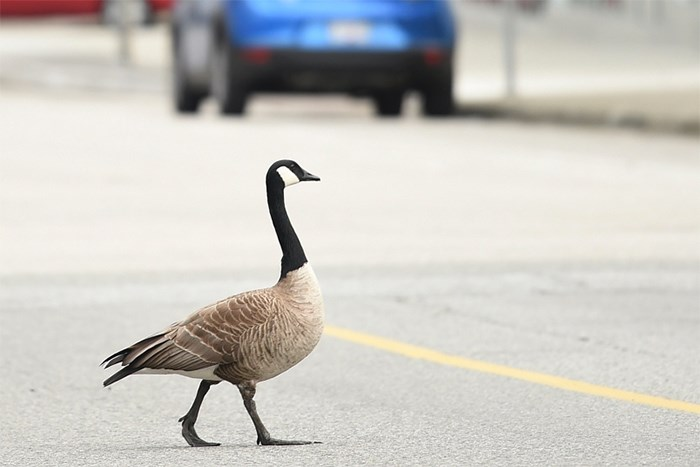goose: (89, 155, 330, 457)
